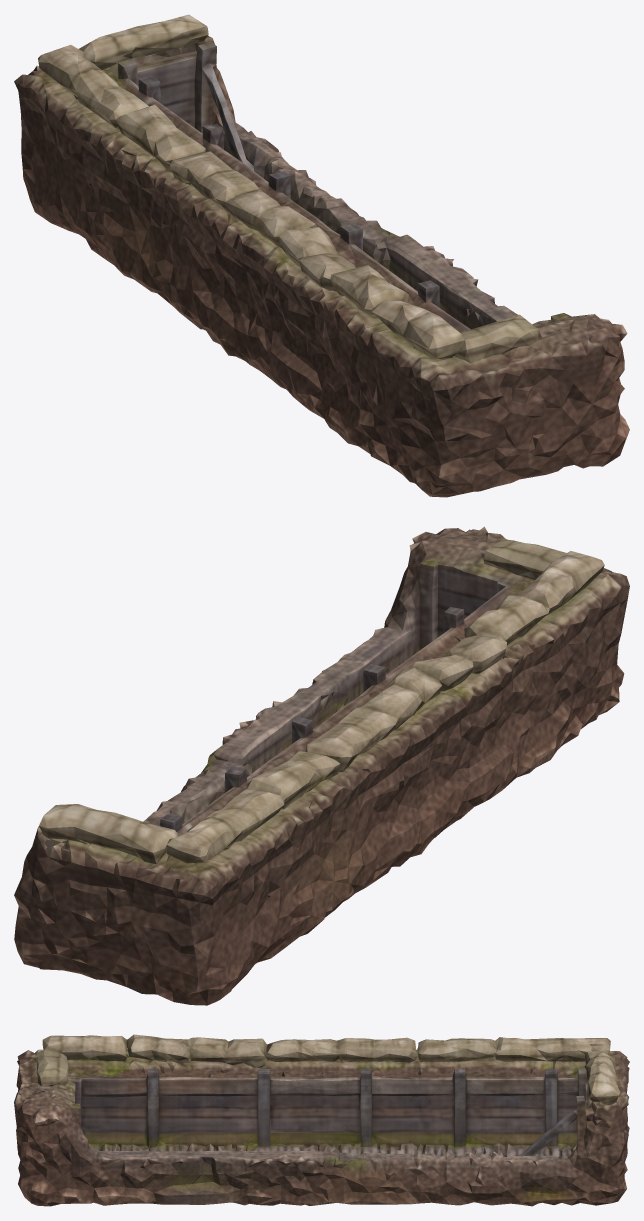
The model's file is trench.obj.
3 views of the same model, one above another, from view 1: azimuth 30°, elevation 25°; view 2: azimuth 150°, elevation 25°; view 3: azimuth 270°, elevation 25° (orthographic). The views are drawn at different scales.
Parts seen in each view (by area): view 1: trench; view 2: trench; view 3: trench.
Boxes of the visible parts, box(x1,y1,x2,y2) form: trench: box(14, 14, 629, 497); trench: box(14, 526, 629, 1005); trench: box(14, 1034, 629, 1206).
Size of the model in its own units: 2.29 by 1.67 by 8.
Materials: 1 (1 with a texture image).
